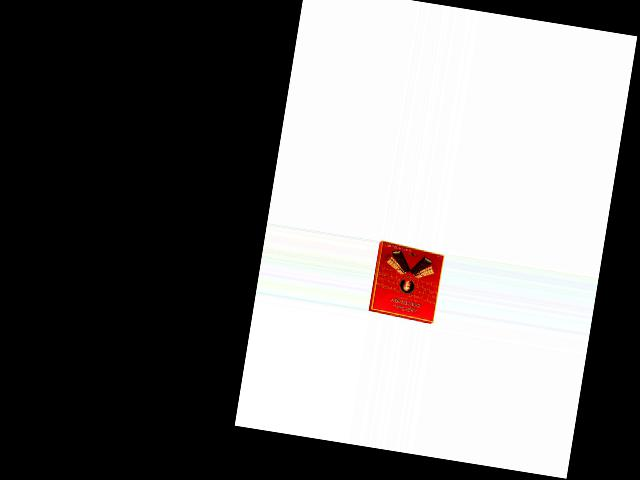chocolate: (367, 238, 446, 323)
